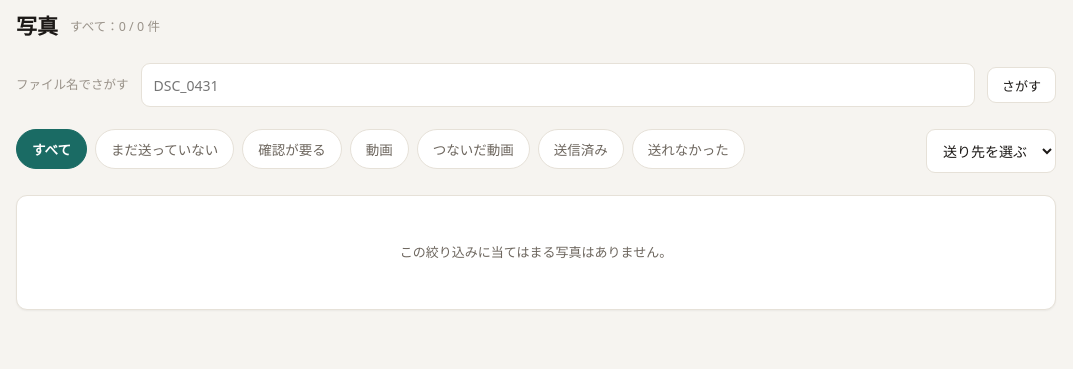
it: 写真の画面 › 送り先を選んでいないときは、何を出しているのかを書く
Click the button "まだ送っていない": coordinates (165, 149) [95,129,234,169]
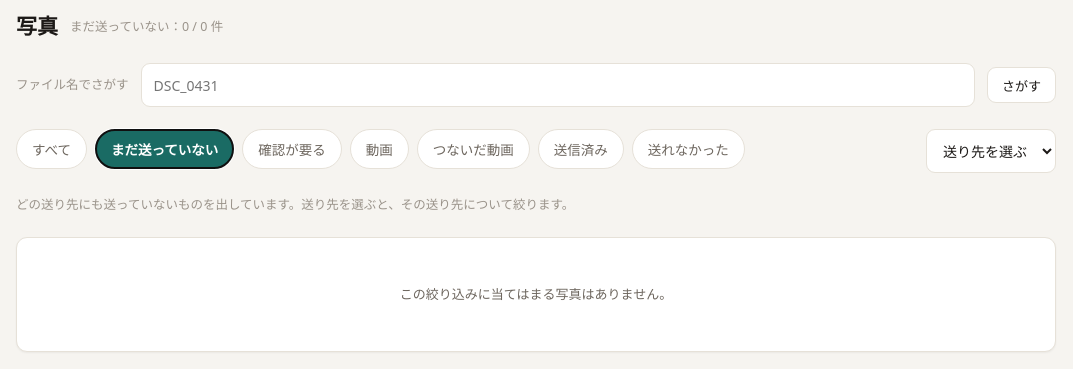
Result: the text "どの送り先にも送っていないものを出しています。送り先を選ぶと、その送り先について絞ります。" is shown at [16,196,574,213]
